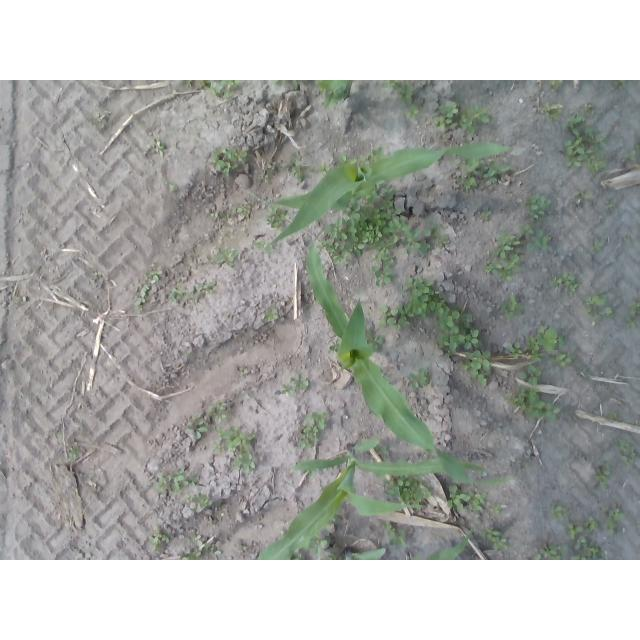Maize: (308, 240, 489, 474), (258, 438, 512, 560), (243, 142, 511, 246), (343, 528, 473, 561), (320, 80, 349, 101)
Weeds: (404, 276, 484, 349), (321, 217, 420, 264), (508, 387, 560, 422), (494, 233, 521, 260), (525, 195, 551, 222), (461, 362, 487, 387), (585, 126, 607, 153), (538, 327, 559, 354), (231, 453, 256, 473), (535, 542, 562, 560), (517, 364, 541, 384), (502, 254, 520, 280), (187, 419, 209, 440), (372, 266, 394, 287), (267, 208, 289, 229), (565, 115, 585, 138), (221, 426, 240, 450), (528, 229, 548, 251), (378, 305, 398, 327), (209, 401, 228, 424), (466, 350, 490, 367), (218, 147, 247, 161), (409, 368, 429, 388), (152, 526, 168, 551), (446, 494, 471, 510), (484, 161, 510, 176), (308, 412, 329, 430), (234, 433, 255, 451), (426, 218, 443, 238), (564, 139, 584, 156), (461, 108, 474, 134), (216, 249, 238, 264), (471, 105, 489, 123), (546, 103, 563, 122), (552, 353, 575, 367), (439, 100, 457, 117), (368, 330, 383, 350), (173, 468, 188, 488), (486, 258, 503, 275), (156, 473, 172, 491), (383, 201, 402, 216), (192, 493, 212, 507), (368, 253, 396, 263), (310, 540, 327, 556), (586, 544, 603, 560), (211, 154, 225, 173), (211, 85, 233, 97), (480, 528, 500, 541), (584, 516, 600, 532), (434, 117, 451, 132), (506, 343, 522, 358), (415, 487, 432, 501), (364, 205, 381, 219), (405, 104, 419, 121), (459, 161, 480, 172), (295, 374, 310, 389), (299, 433, 313, 449), (585, 295, 607, 305), (196, 282, 216, 293), (254, 241, 274, 252), (568, 522, 580, 540), (587, 160, 605, 172), (291, 165, 303, 183), (399, 304, 414, 318), (348, 203, 362, 218), (237, 203, 252, 217), (223, 162, 237, 177), (567, 154, 584, 166), (150, 265, 162, 282), (338, 155, 358, 165), (573, 187, 591, 198), (451, 116, 465, 130), (519, 226, 534, 239), (465, 177, 478, 192), (493, 538, 508, 551), (605, 519, 618, 534), (595, 468, 610, 481), (438, 234, 451, 249), (608, 508, 624, 520), (183, 549, 202, 559), (186, 535, 203, 546), (530, 349, 543, 363), (574, 536, 587, 550), (552, 506, 566, 519), (263, 310, 277, 323), (480, 206, 492, 221), (615, 438, 630, 450), (401, 487, 413, 502), (528, 337, 540, 351), (387, 486, 401, 498), (170, 289, 182, 303), (282, 160, 303, 168), (389, 538, 407, 547), (219, 81, 242, 88), (325, 92, 335, 108), (562, 272, 575, 284), (628, 302, 640, 315), (372, 147, 384, 160), (329, 339, 340, 353), (473, 493, 487, 504), (584, 103, 595, 117), (383, 189, 398, 199), (571, 199, 581, 214), (550, 276, 562, 288), (399, 476, 412, 487), (622, 457, 634, 468), (582, 149, 594, 160), (69, 445, 79, 458), (421, 240, 431, 253), (590, 241, 603, 251), (508, 294, 516, 310), (156, 141, 165, 155), (626, 316, 636, 328), (190, 473, 198, 488), (359, 155, 371, 165), (282, 386, 295, 395), (386, 523, 395, 536), (399, 92, 412, 101), (469, 503, 483, 511), (198, 80, 212, 88), (446, 349, 458, 358), (398, 316, 410, 325), (318, 164, 330, 173), (135, 298, 143, 311), (551, 80, 561, 90), (625, 151, 635, 161), (293, 150, 303, 160), (516, 302, 524, 314), (213, 443, 222, 453), (140, 285, 148, 296), (559, 334, 565, 348), (382, 81, 394, 88), (493, 504, 502, 513), (178, 283, 187, 292), (380, 246, 390, 254), (569, 284, 578, 292), (449, 484, 458, 492), (505, 309, 514, 317), (606, 200, 614, 209), (17, 295, 27, 302), (169, 185, 179, 192), (193, 413, 204, 419), (173, 485, 184, 491), (203, 543, 209, 554), (571, 554, 582, 560), (311, 434, 319, 442), (609, 412, 617, 420), (538, 325, 546, 333), (522, 462, 530, 470), (501, 302, 508, 311), (600, 481, 607, 490), (268, 163, 277, 170), (184, 81, 193, 88), (402, 84, 411, 91), (605, 307, 611, 317), (488, 177, 498, 183), (561, 544, 567, 554), (391, 81, 401, 87), (586, 306, 593, 314), (455, 179, 463, 186), (55, 432, 62, 440), (597, 150, 604, 158), (184, 291, 192, 298), (302, 426, 311, 432), (260, 175, 269, 181), (217, 427, 224, 434), (184, 495, 192, 501), (94, 271, 100, 279), (396, 531, 405, 536), (630, 448, 635, 457), (596, 315, 603, 321), (613, 85, 623, 89), (142, 296, 147, 304), (211, 213, 219, 218), (636, 145, 640, 154), (318, 90, 327, 94), (606, 462, 611, 469), (626, 236, 631, 243), (185, 350, 191, 355), (313, 427, 318, 433), (191, 508, 197, 513), (329, 554, 335, 559), (602, 508, 608, 513), (240, 369, 244, 376), (215, 550, 222, 554), (273, 80, 280, 84), (414, 482, 419, 487), (289, 377, 293, 383), (146, 274, 150, 280), (151, 279, 156, 283), (337, 557, 343, 560), (98, 118, 102, 122), (582, 556, 586, 560), (637, 525, 640, 530), (637, 132, 640, 136), (164, 182, 168, 185)
